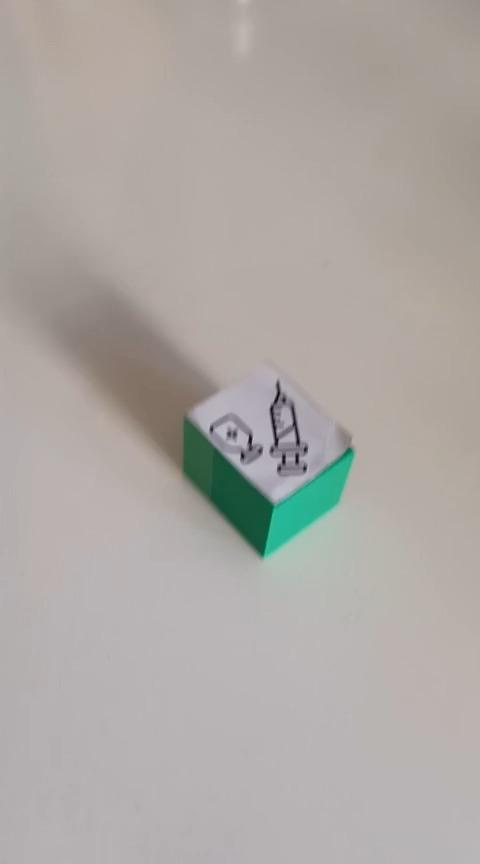antiseptic cream: (180, 358, 355, 558)
